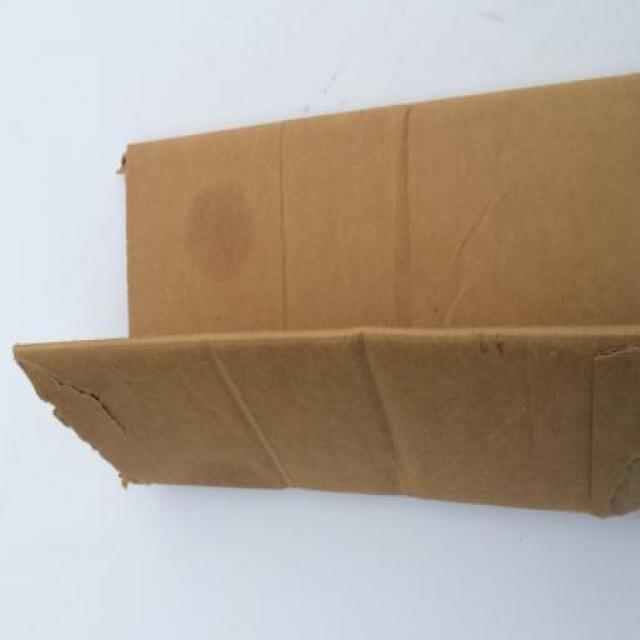cardboard: (12, 67, 639, 538)
